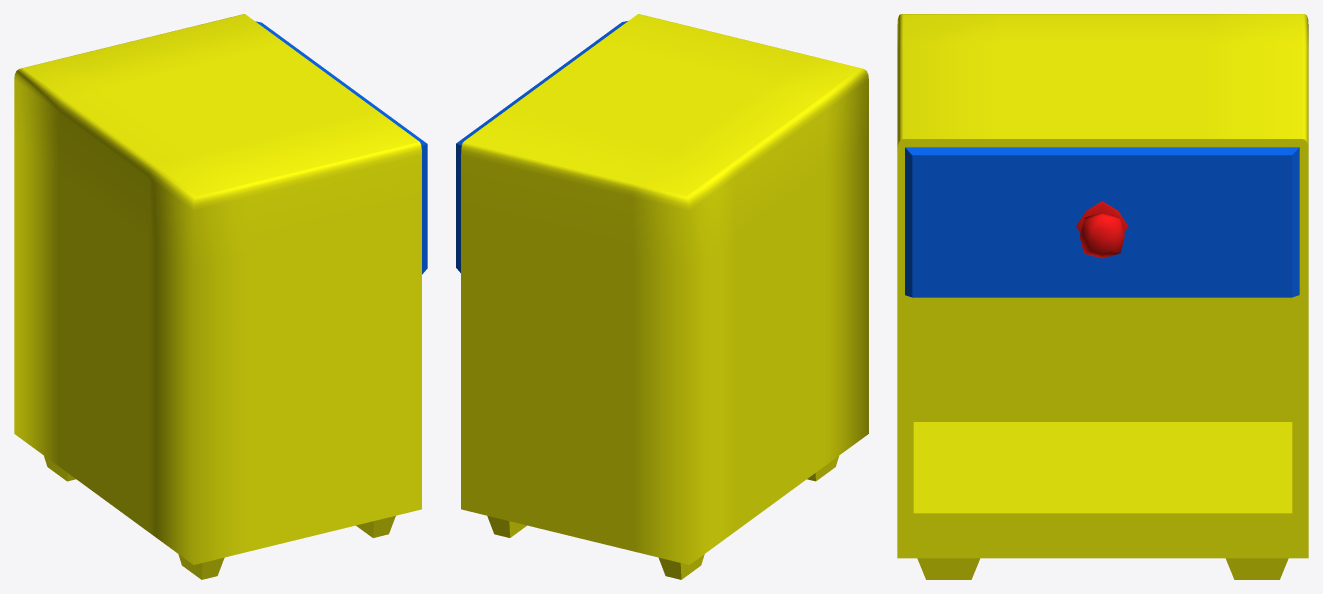
The model's file is BedsideTable.fbx.
3 renders of one model, left to right at view 1: azimuth 30°, elevation 25°; view 2: azimuth 150°, elevation 25°; view 3: azimuth 270°, elevation 25°, orthographic. The views are drawn at different scales.
Parts seen in each view (by area): view 1: Bedside table, Drawer; view 2: Bedside table, Drawer; view 3: Bedside table, Drawer, Knob.
Boxes of the visible parts, x1,y1,x2,y2 form: Bedside table: [14, 14, 421, 579]; Drawer: [255, 21, 427, 274]; Bedside table: [461, 14, 868, 579]; Drawer: [456, 21, 627, 272]; Bedside table: [897, 14, 1308, 579]; Drawer: [905, 147, 1299, 297]; Knob: [1076, 201, 1128, 258].
Size of the model in its own units: 17.42 by 24.56 by 20.22.
